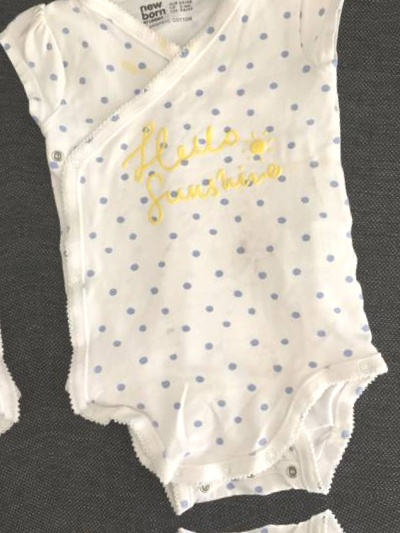Body: (0, 0, 400, 533), (0, 6, 61, 533), (63, 494, 400, 533)
